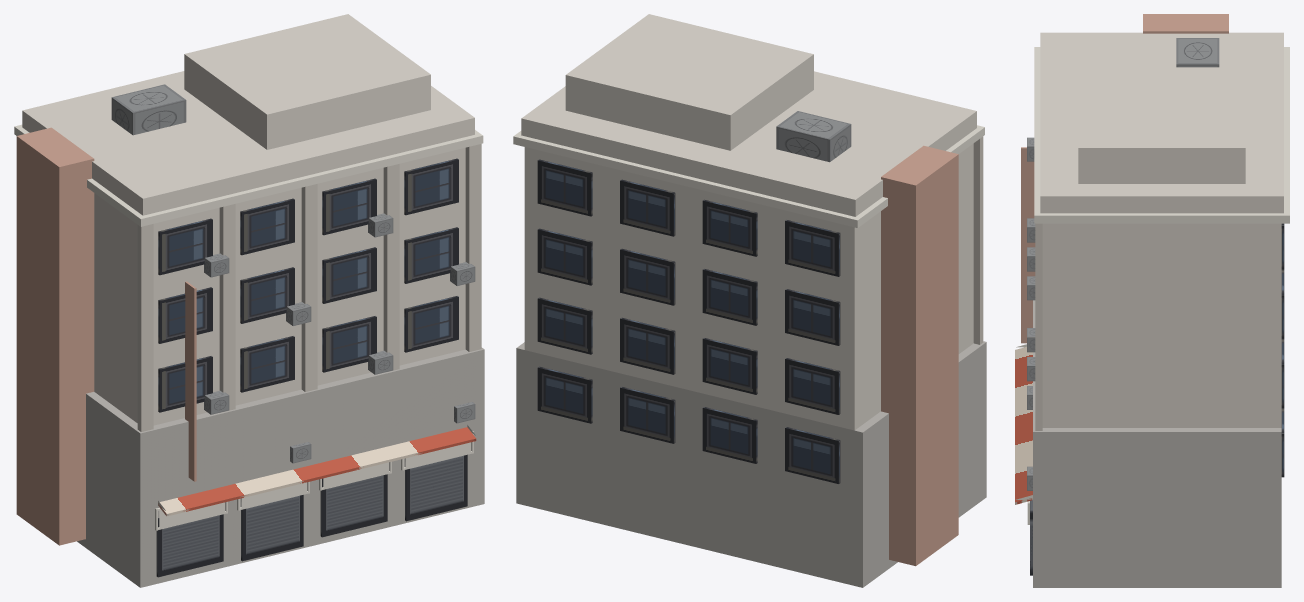
File: street-facade-03.glb
The picture shows the model from 3 angles, left to right: view 1: azimuth 30°, elevation 25°; view 2: azimuth 150°, elevation 25°; view 3: azimuth 270°, elevation 25°; orthographic projection.
Visible parts, largest first — view 1: podium, body, core--1, windows, parapet, setback, pilasters, storefront, canopy, cornice, wall-ac, roof-ac (+5 smaller); view 2: podium, body, windows, core--1, parapet, setback, cornice, roof-ac, pilasters; view 3: body, podium, parapet, setback, cornice, canopy, sign-v-frame, core--1, pilasters, wall-ac, roof-ac, windows.
Part boxes in pixels (x1,y1,x2,y2): podium: (77,347,484,587); body: (94,147,465,425); core--1: (16,127,94,545); windows: (158,158,458,412); parapet: (22,71,474,215); setback: (184,14,430,149); pilasters: (137,144,481,431); storefront: (156,454,467,577); canopy: (158,427,476,516); cornice: (14,124,483,226); wall-ac: (204,213,475,463); roof-ac: (111,84,186,135); podium: (516,341,986,587); body: (524,143,973,430); windows: (537,159,840,483); core--1: (881,145,958,566); parapet: (521,71,976,216); setback: (565,14,813,150); cornice: (513,125,984,227); roof-ac: (776,111,851,162); pilasters: (973,136,983,344); body: (1042,223,1281,427); podium: (1033,300,1281,587); parapet: (1040,32,1283,213); setback: (1078,67,1245,183); cornice: (1034,47,1289,223); canopy: (1015,346,1032,504); sign-v-frame: (1021,147,1035,343); core--1: (1143,14,1228,33); pilasters: (1035,223,1042,430); wall-ac: (1027,137,1035,490); roof-ac: (1176,38,1219,67); windows: (1281,223,1284,477).
Size of the model in its own units: 18.1 by 19.6 by 11.5.
Materials: 9 (4 with a texture image).
